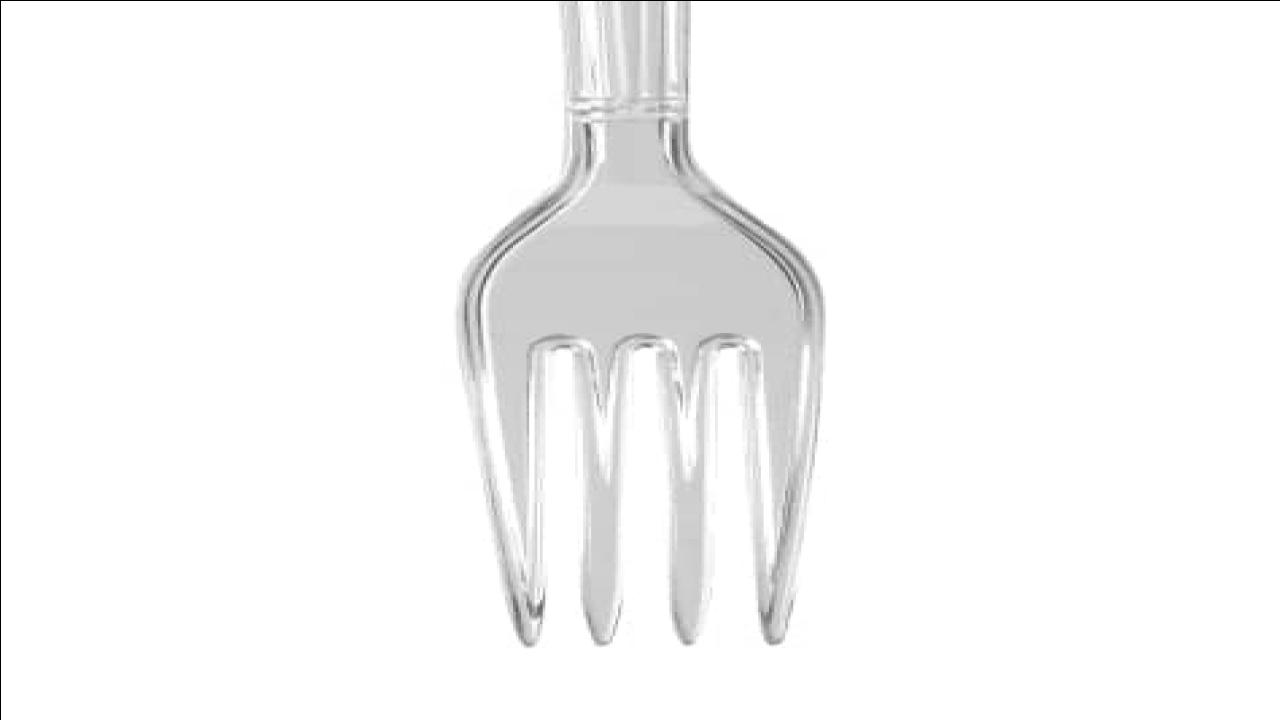fork: (456, 1, 828, 650)
